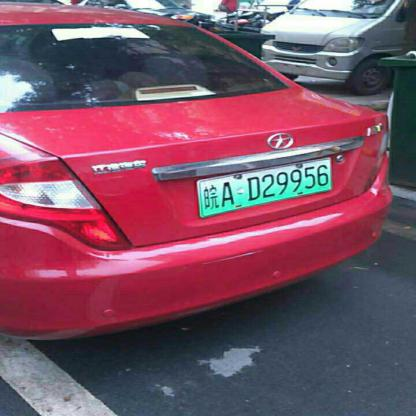lp: (198, 157, 332, 217)
